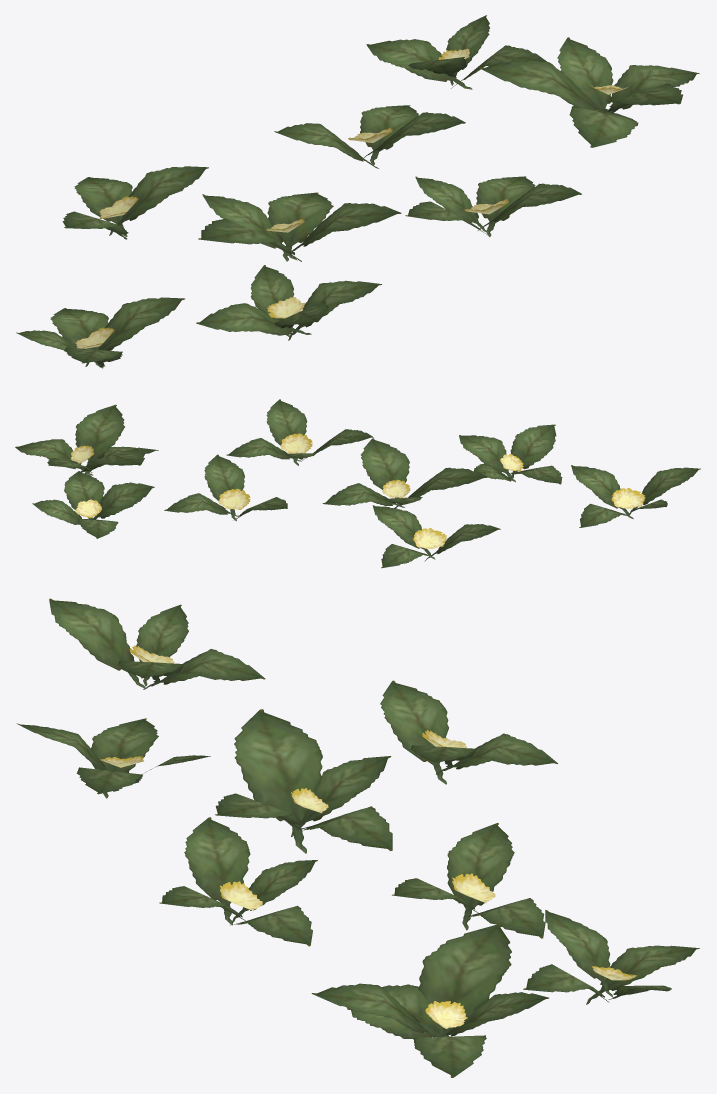
Rendered from OZ_02_ma_flower03A.glb.
3 renders of one model, top to bottom at view 1: azimuth 30°, elevation 25°; view 2: azimuth 150°, elevation 25°; view 3: azimuth 270°, elevation 25°, orthographic. The views are drawn at different scales.
Visible parts, largest first — view 1: OM_02_ma_flower03A; view 2: OM_02_ma_flower03A; view 3: OM_02_ma_flower03A.
Boxes of the visible parts, x1,y1,x2,y2 form: OM_02_ma_flower03A: [16, 15, 699, 368]; OM_02_ma_flower03A: [15, 399, 700, 568]; OM_02_ma_flower03A: [16, 598, 699, 1077].
Bounding box in the file's own units: 2.17 × 0.1783 × 1.41.
1 material, 1 textured.
